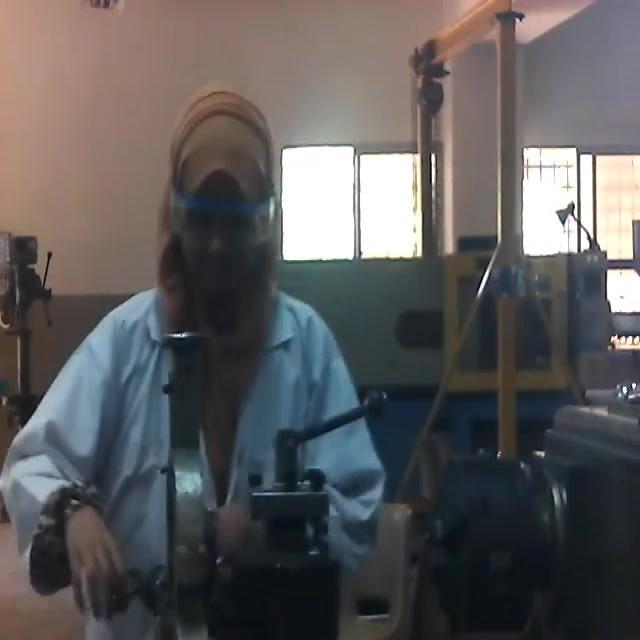googles: (169, 185, 280, 257)
labcoat: (2, 254, 387, 640)
